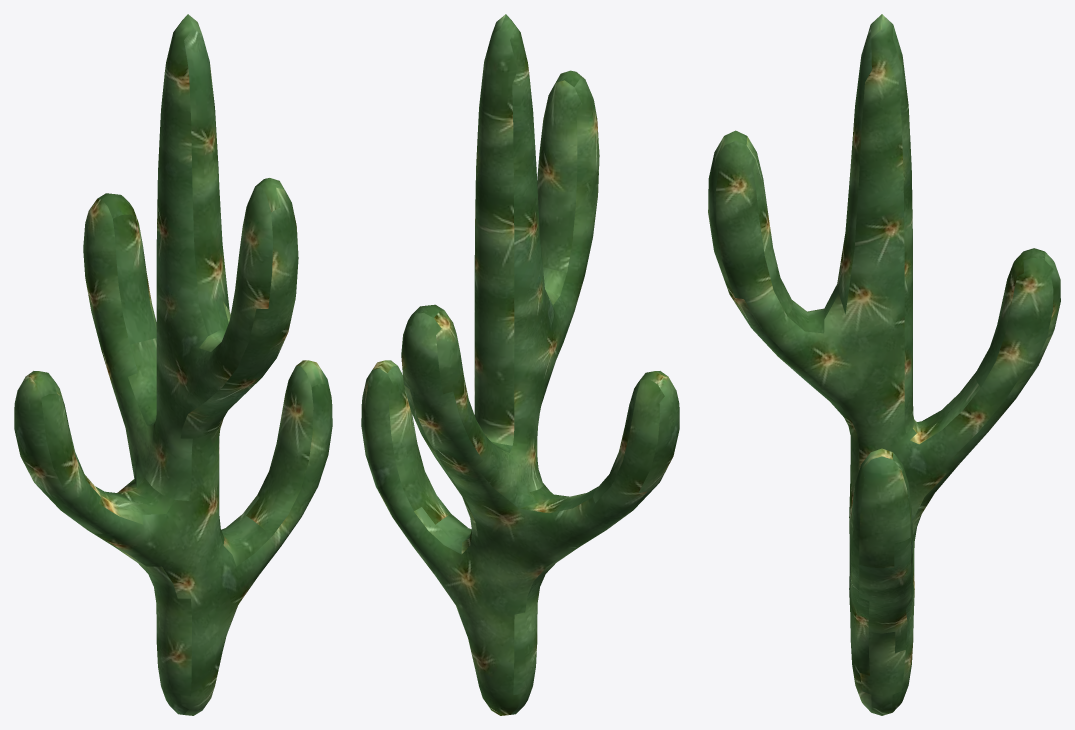
The model's file is кактус.fbx.
The picture shows the model from 3 angles, left to right: view 1: azimuth 30°, elevation 25°; view 2: azimuth 150°, elevation 25°; view 3: azimuth 270°, elevation 25°; orthographic projection.
Parts seen in each view (by area): view 1: Cube; view 2: Cube; view 3: Cube.
Boxes of the visible parts, x1=… form: Cube: x1=14, y1=14, x2=332, y2=715; Cube: x1=361, y1=14, x2=679, y2=715; Cube: x1=708, y1=14, x2=1060, y2=715.
Bounding box in the file's own units: 160 × 348 × 159.
Materials: 1 (1 with a texture image).
